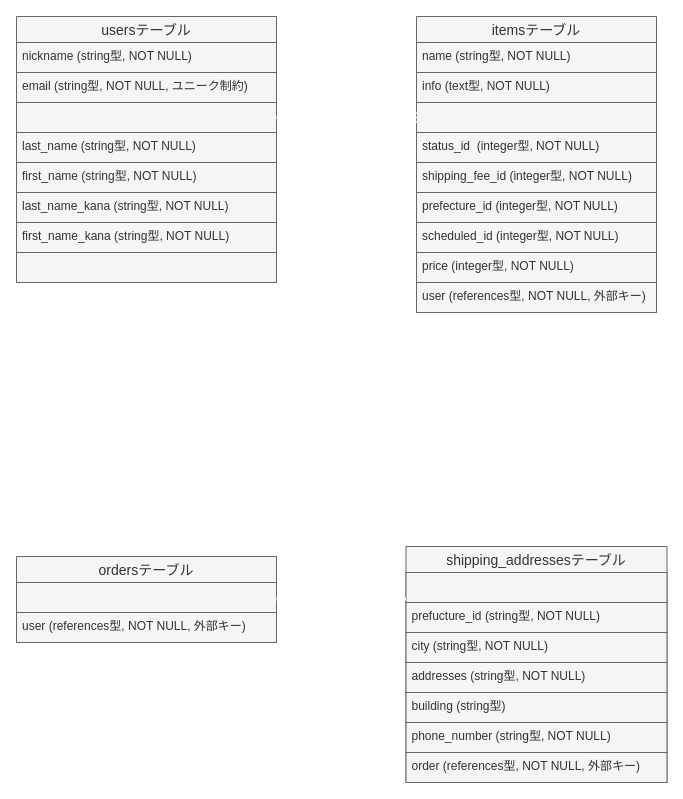
Some shapes in this 683 by 799 pixel diagram are drawn without their labels. Here are the shapes that lost their labels. From the top down, the centre of each, then its label:
pixel 146 117: password (string型, NOT NULL)
pixel 536 117: category_id (integer型, NOT NULL)
pixel 146 267: birth_date (date型, NOT NULL)
pixel 146 597: item (references型, NOT NULL, 外部キー)
pixel 536 587: postal_code (string型, NOT NULL)
